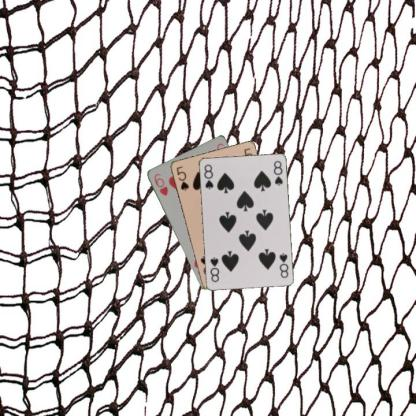5s: (174, 163, 189, 192)
6h: (151, 171, 169, 197)
8s: (201, 162, 214, 190), (277, 250, 289, 279)
